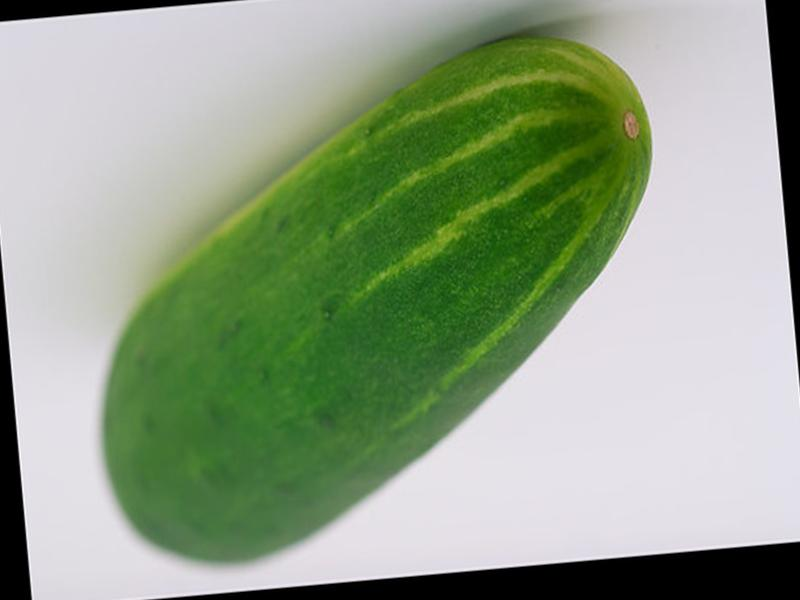Cucumber: (69, 27, 684, 575)
